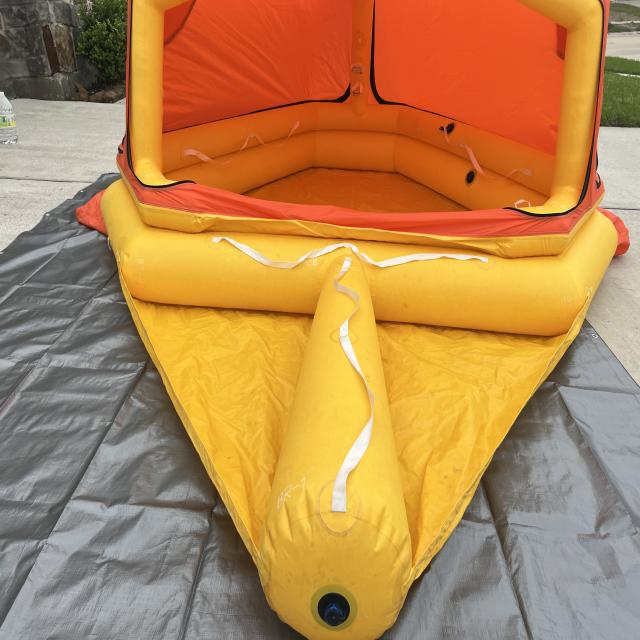Multi-person_life_raft: (74, 1, 630, 639)
